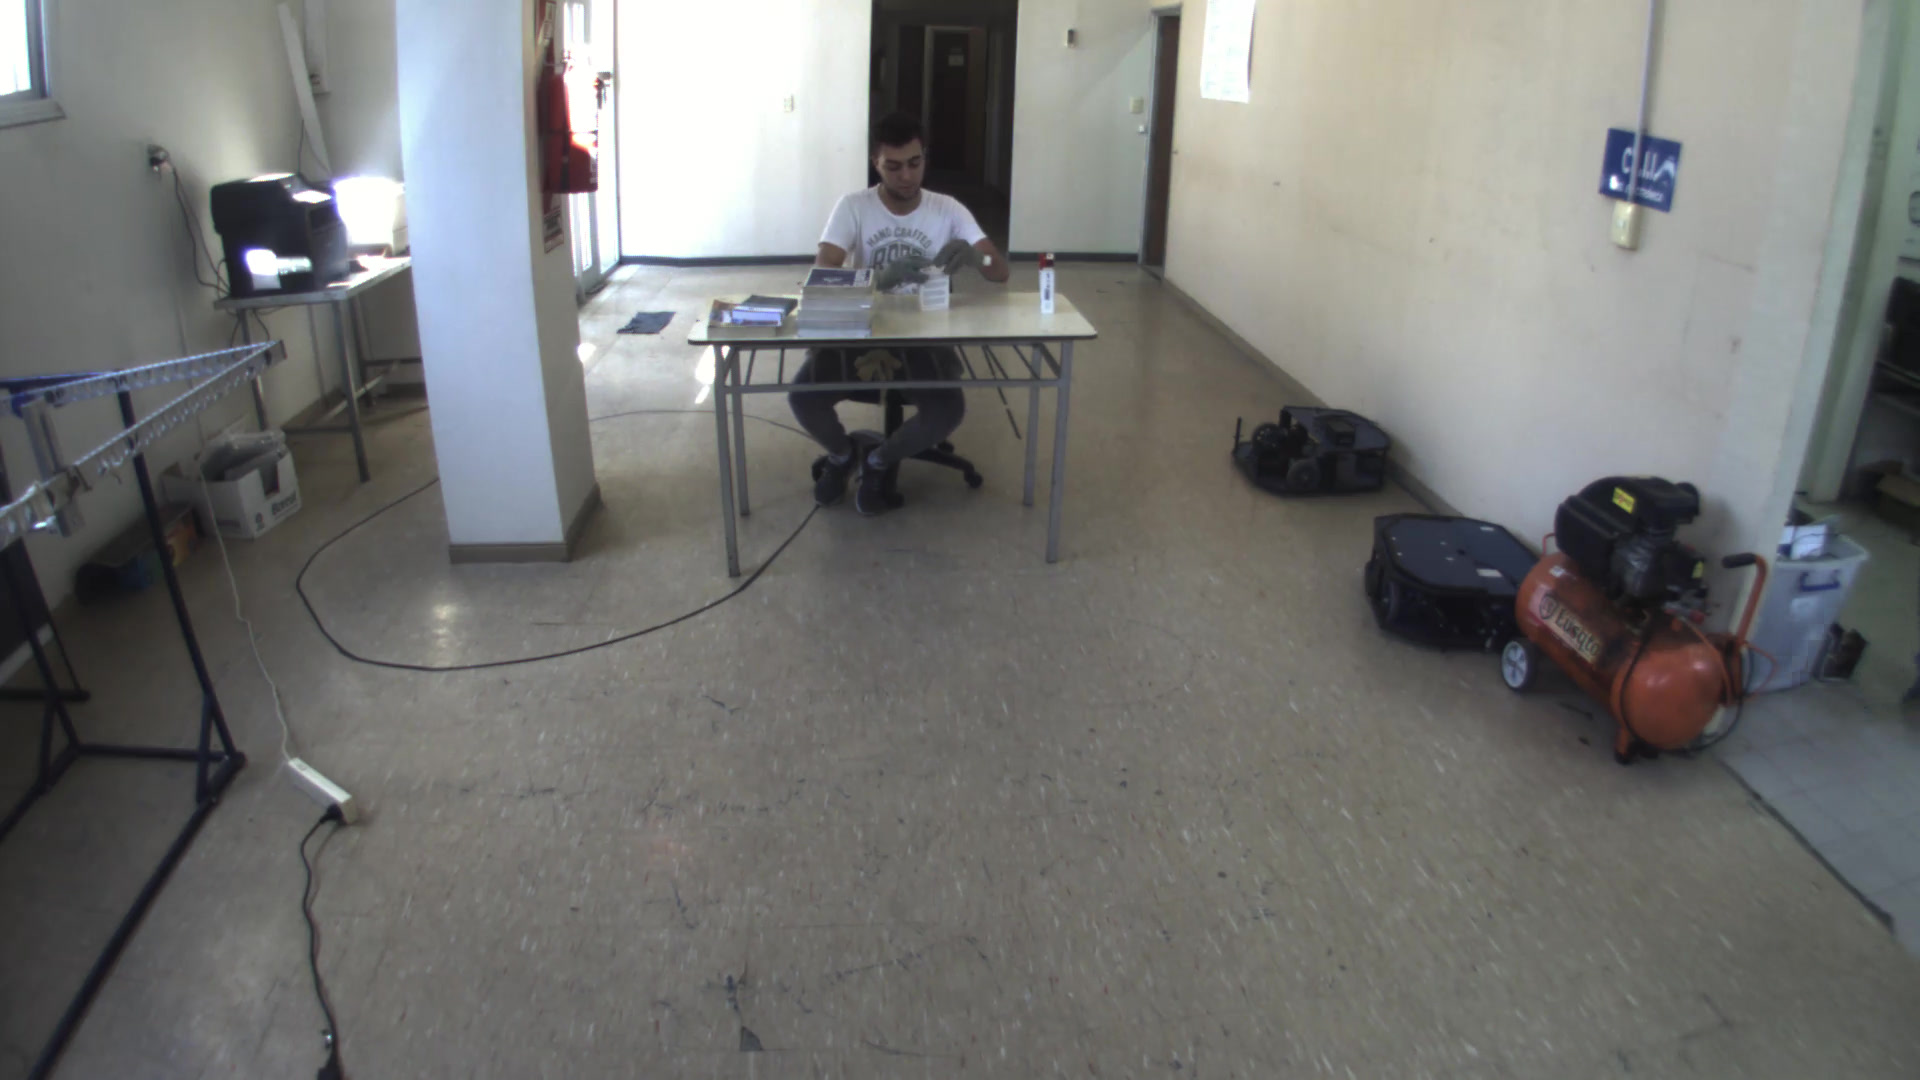hand: (876, 252, 931, 293), (931, 239, 989, 276)
